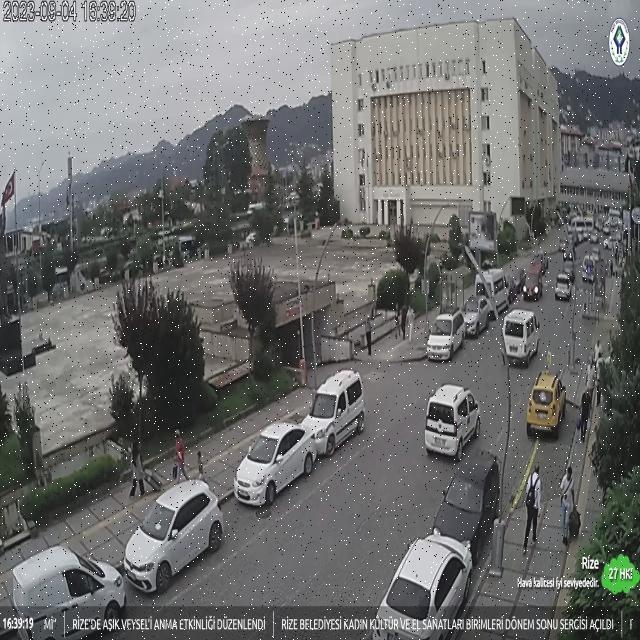Car: (123, 478, 224, 598), (373, 535, 474, 640), (232, 418, 315, 509), (433, 451, 500, 561), (426, 381, 482, 461), (528, 373, 571, 439), (426, 306, 465, 361), (463, 294, 493, 337), (554, 271, 573, 303)
Van: (8, 545, 126, 640), (304, 368, 366, 454), (498, 310, 540, 366), (475, 267, 514, 313), (564, 214, 594, 232)
